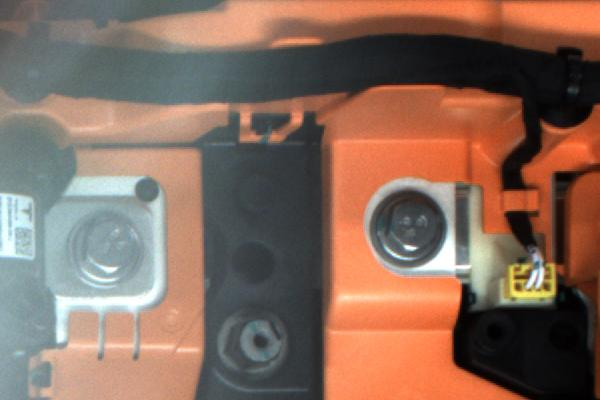nut_b: (368, 183, 454, 275), (66, 211, 150, 289)
